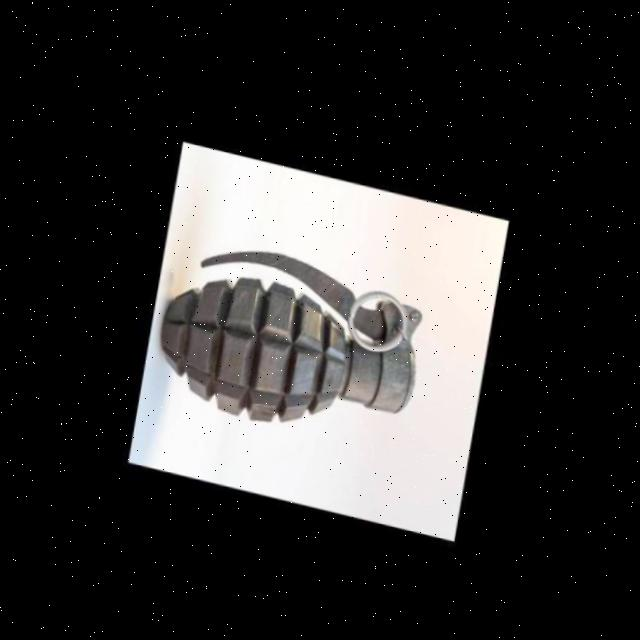grenade: (143, 214, 444, 460)
